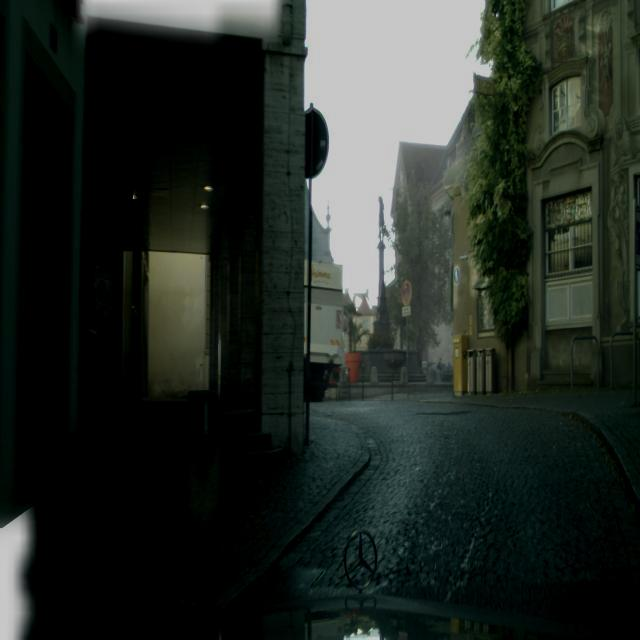car: (303, 263, 345, 402)
